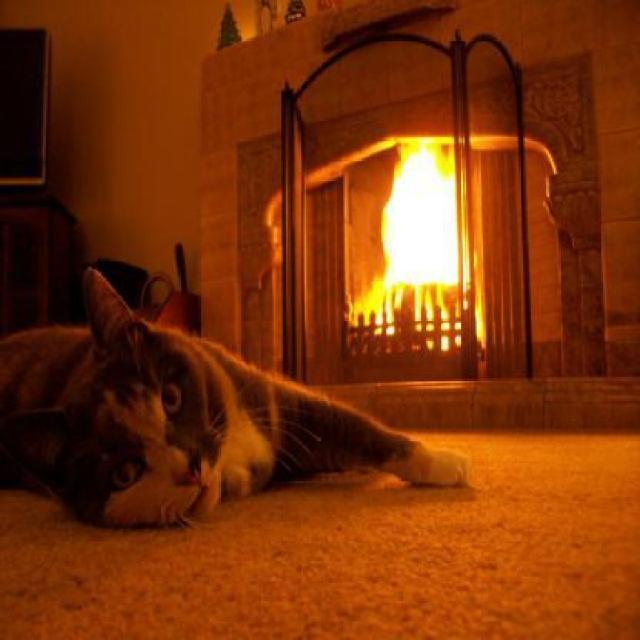Fire: (381, 150, 462, 294)
